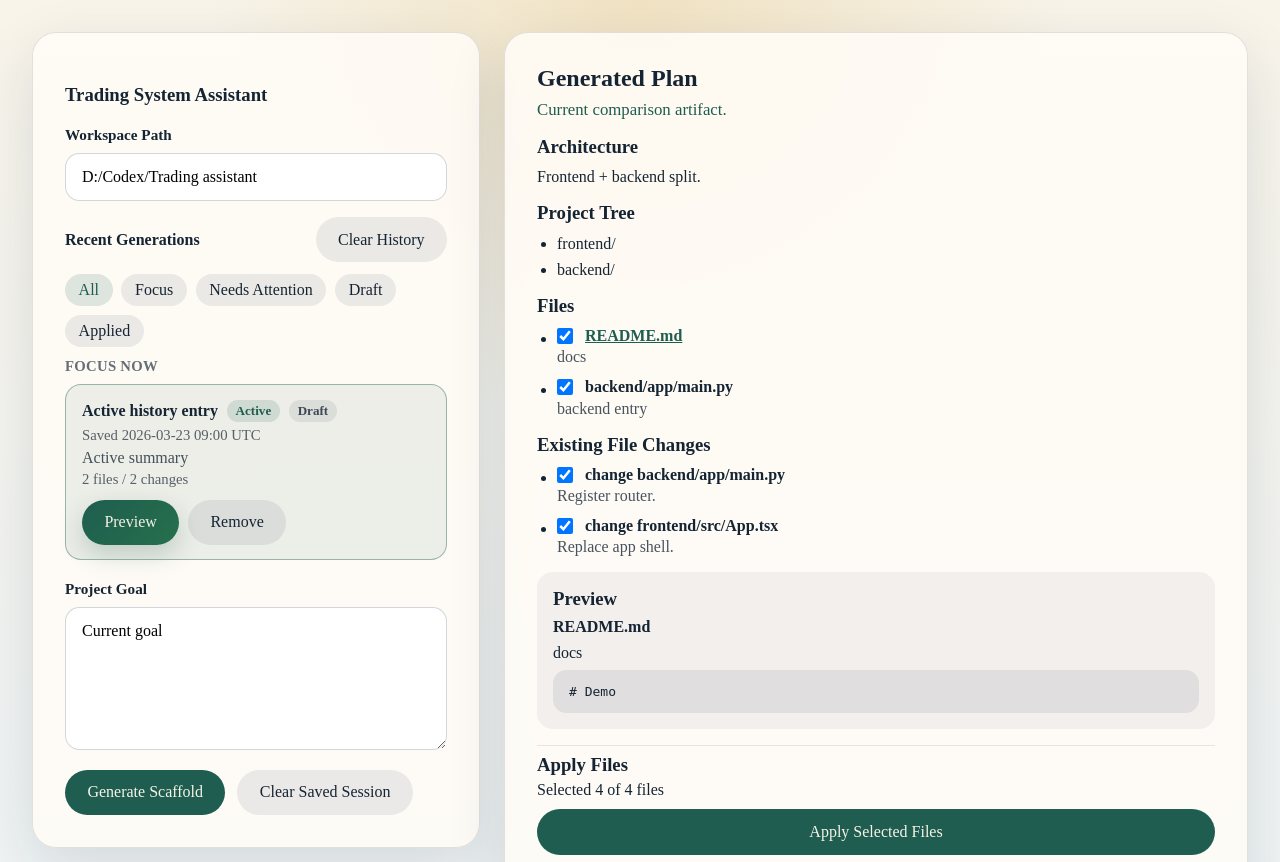
Test: App › shows an active-generation message instead of a comparison summary
The width and height of the screenshot is (1280, 862).
Click the button with aria-label "preview active history entry".
click(131, 522)  # box [82, 500, 179, 545]
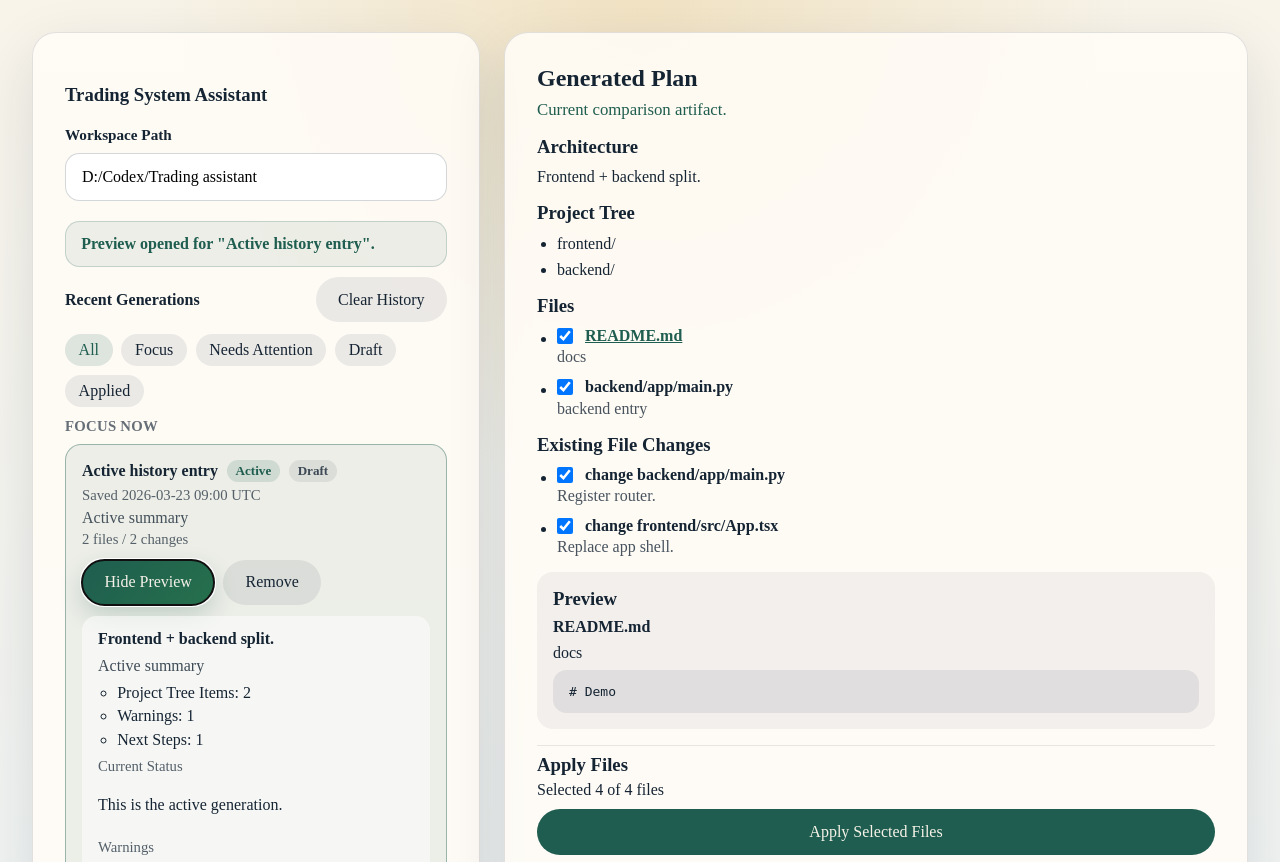
Expected: the text "This is the active generation." is shown, [98, 796, 282, 814]
